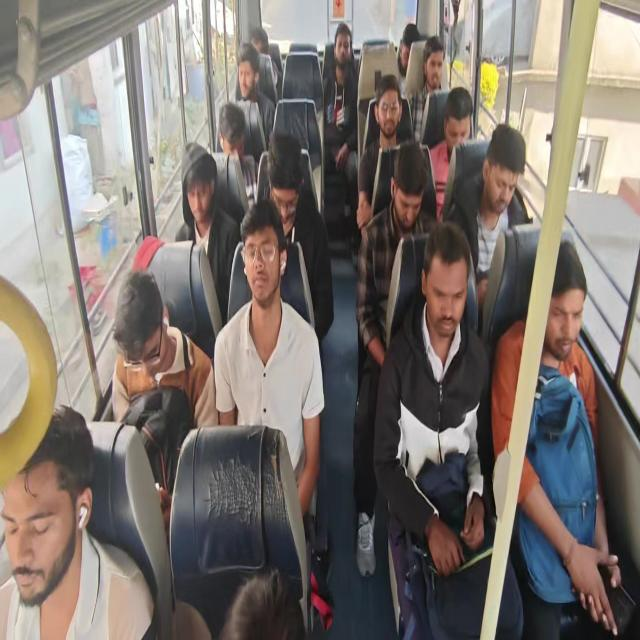person: (0, 398, 101, 597), (217, 568, 319, 640), (110, 266, 170, 367), (240, 205, 286, 302), (538, 260, 581, 360), (265, 138, 305, 228), (430, 241, 466, 339), (390, 158, 426, 238), (487, 138, 520, 218), (185, 139, 212, 223), (217, 101, 252, 162), (443, 96, 474, 152), (328, 21, 359, 76), (375, 82, 404, 132), (237, 54, 260, 108), (396, 29, 422, 70), (245, 29, 268, 70), (425, 49, 444, 91)
